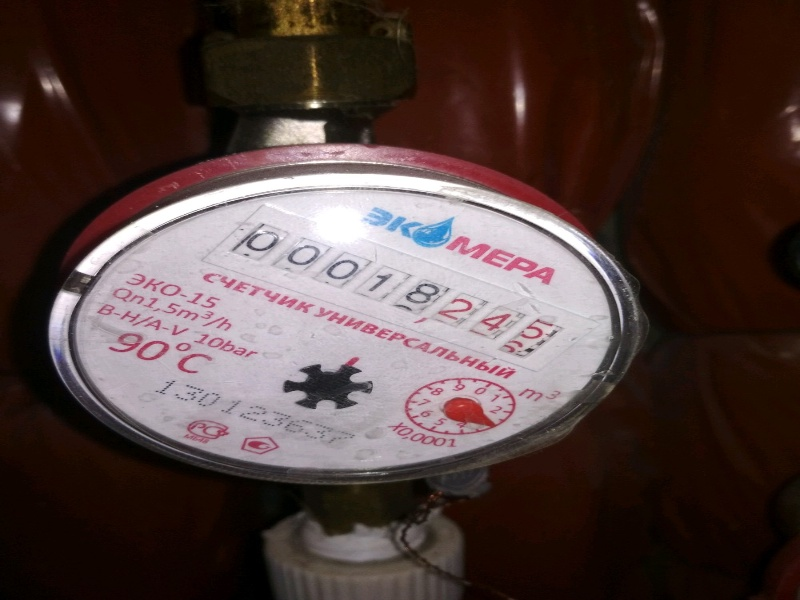meter: (243, 248, 571, 327)
